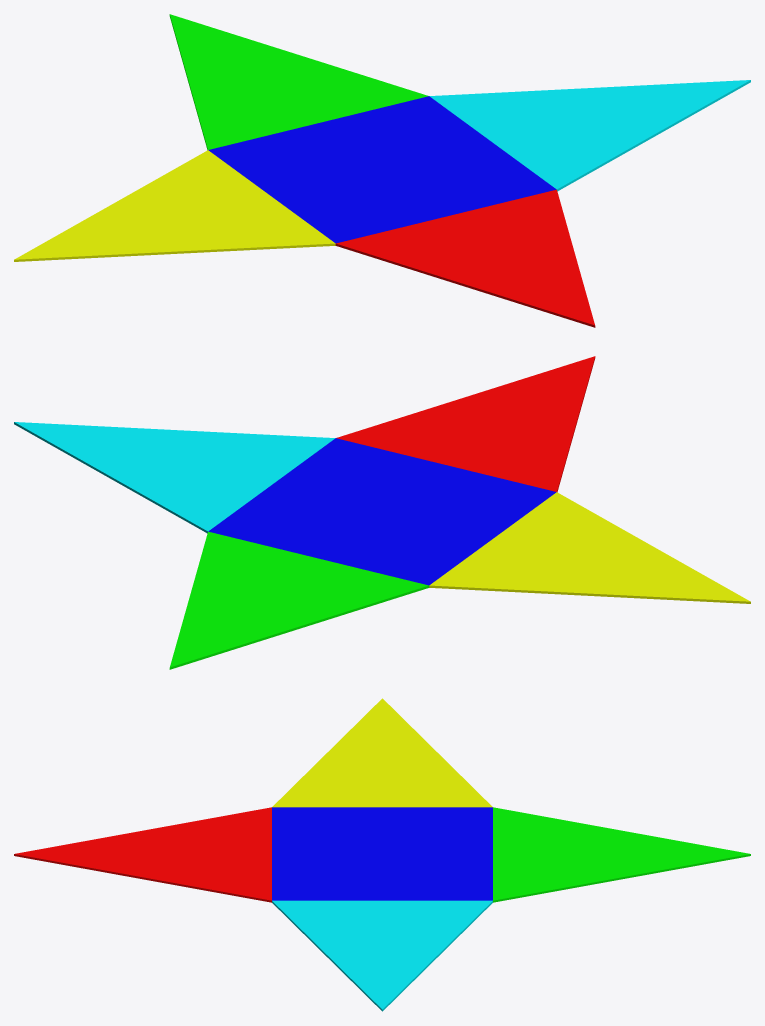
The model's file is piramide_net.glb.
3 renders of one model, top to bottom at view 1: azimuth 30°, elevation 25°; view 2: azimuth 150°, elevation 25°; view 3: azimuth 270°, elevation 25°, orthographic. The views are drawn at different scales.
Parts seen in each view (by area): view 1: cian, rojo, verde, rosa, azul; view 2: cian, rojo, azul, rosa, verde; view 3: cian, azul, verde, rosa, rojo.
Part boxes in pixels (x1=…): cian: x1=208, y1=96, x2=556, y2=243; rojo: x1=14, y1=150, x2=335, y2=261; verde: x1=335, y1=189, x2=595, y2=327; rosa: x1=429, y1=80, x2=750, y2=191; azul: x1=169, y1=14, x2=428, y2=150; cian: x1=208, y1=438, x2=556, y2=585; rojo: x1=429, y1=492, x2=750, y2=603; azul: x1=169, y1=531, x2=429, y2=669; rosa: x1=14, y1=422, x2=335, y2=533; verde: x1=336, y1=356, x2=595, y2=492; cian: x1=272, y1=807, x2=492, y2=900; azul: x1=493, y1=807, x2=750, y2=902; verde: x1=14, y1=807, x2=271, y2=902; rosa: x1=272, y1=900, x2=492, y2=1011; rojo: x1=272, y1=698, x2=492, y2=807.
Size of the model in its own units: 2.54 by 0.00762 by 2.54.
